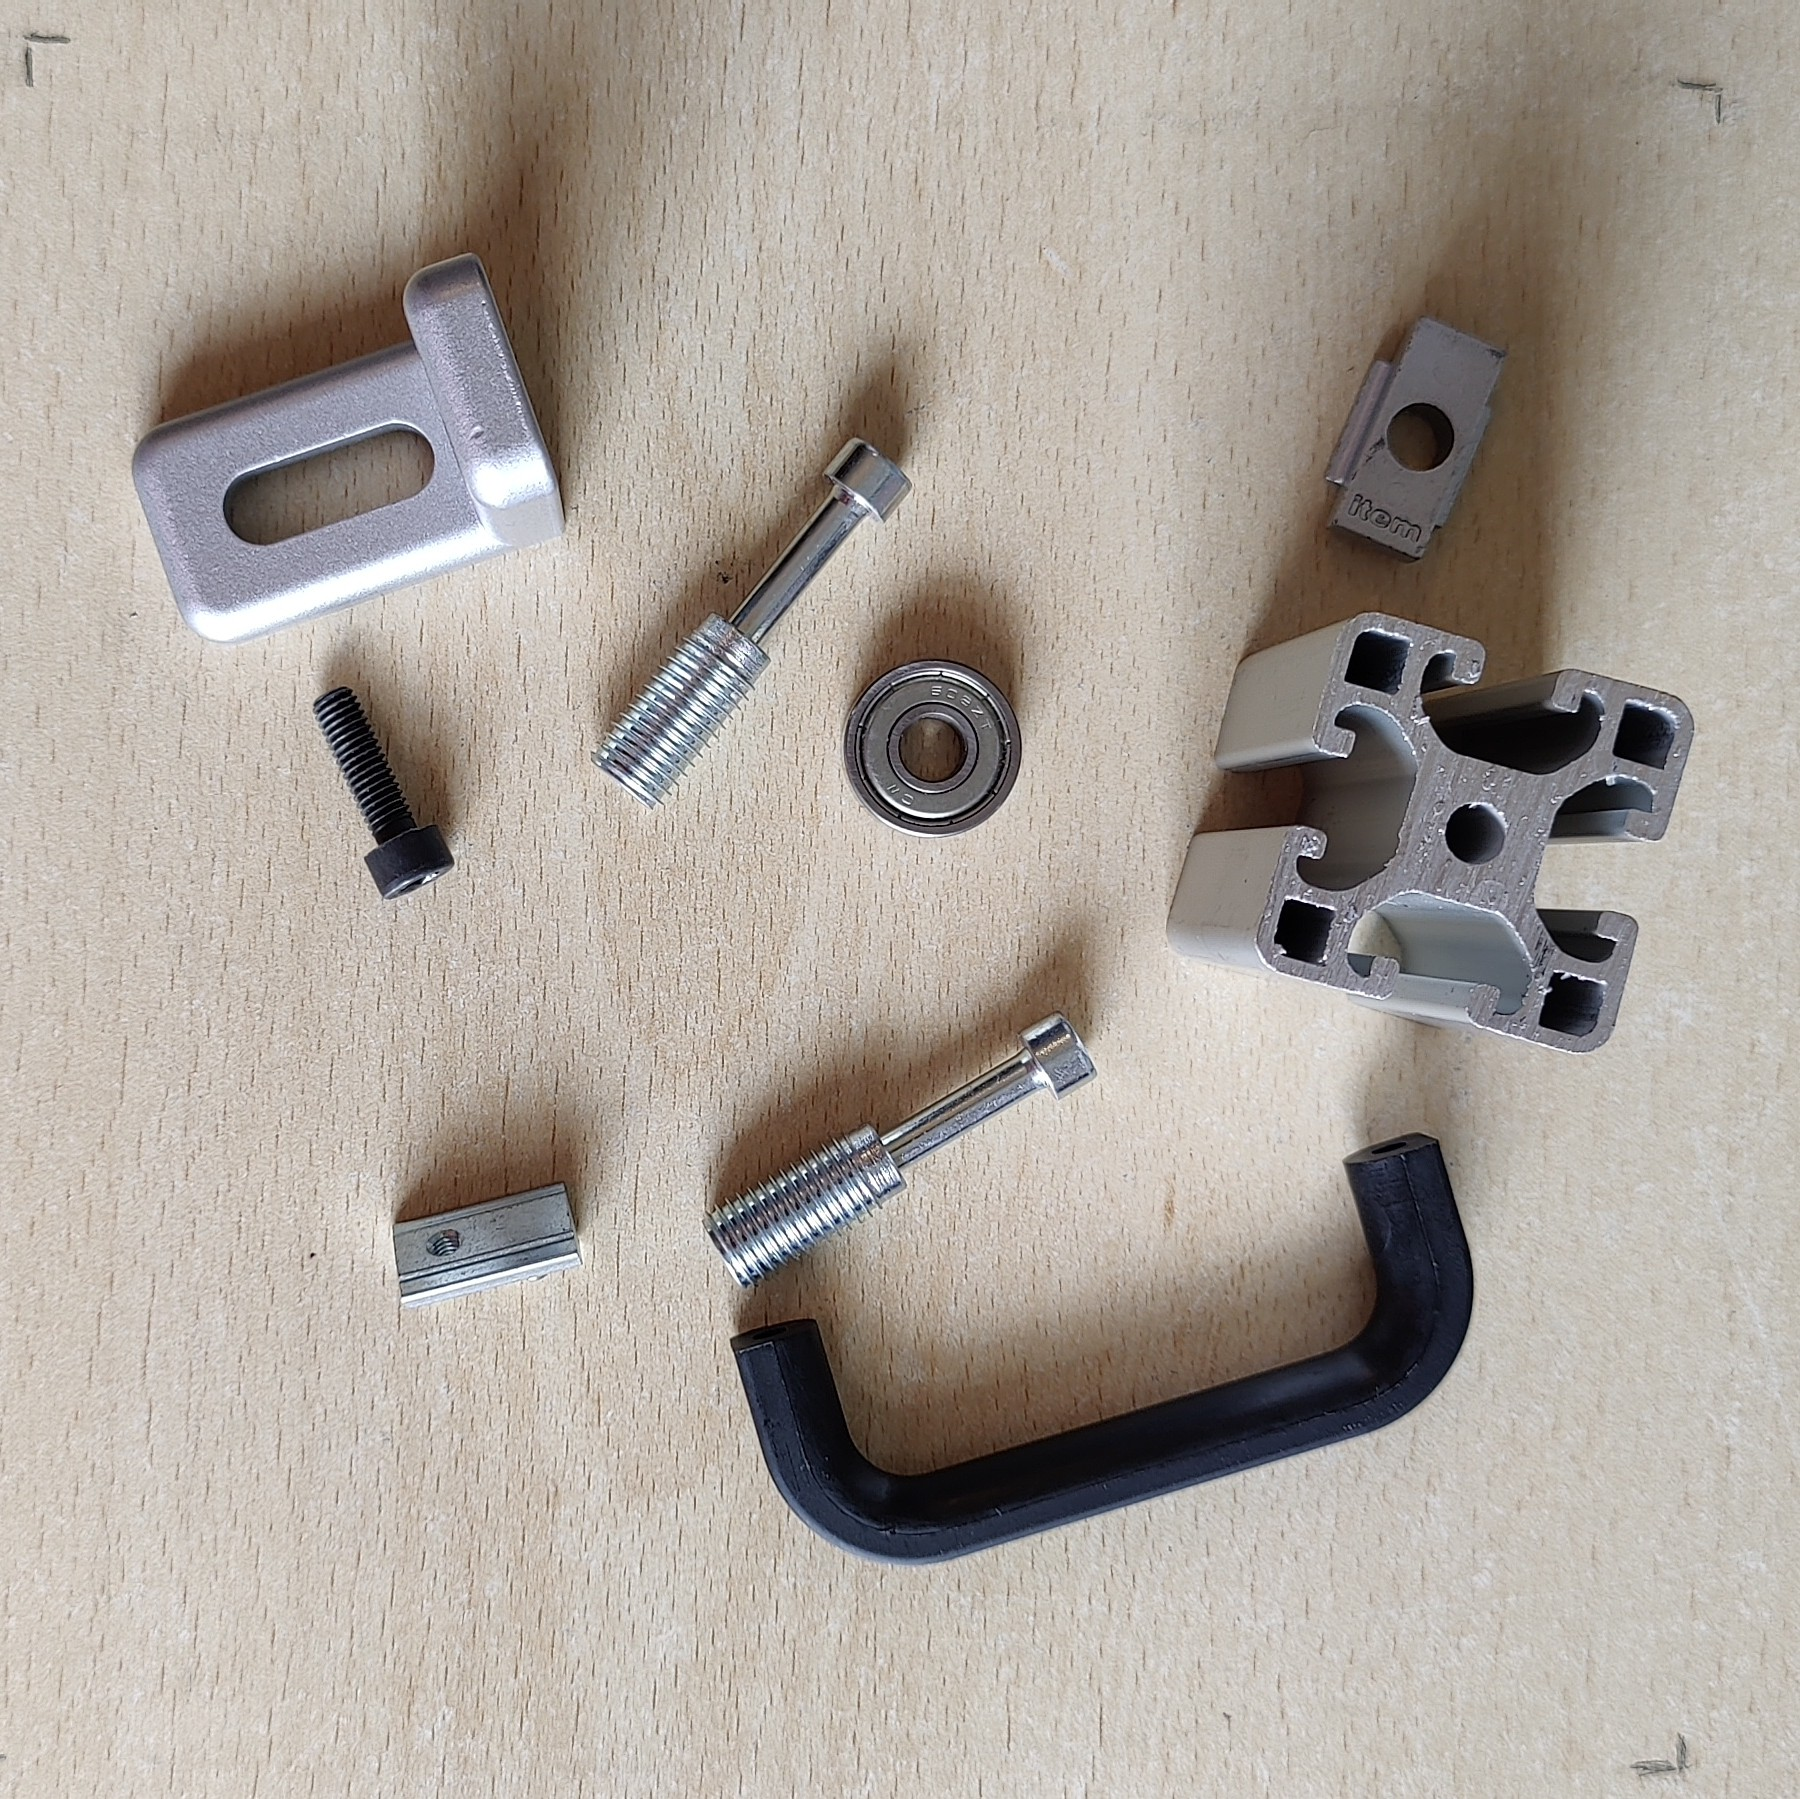Aluminium Extension: (1163, 611, 1698, 1056)
Ball Bearing: (838, 654, 1024, 840)
Multiwinkel: (128, 245, 570, 649)
Pull Handle: (726, 1127, 1477, 1568)
Shoulder Socket Head Cap Screw: (588, 433, 912, 814), (702, 1012, 1102, 1292)
Socket Head Cap Screw: (308, 680, 456, 903)
T Nut Square: (1317, 313, 1515, 568)
T Spring Nut: (390, 1180, 585, 1311)
